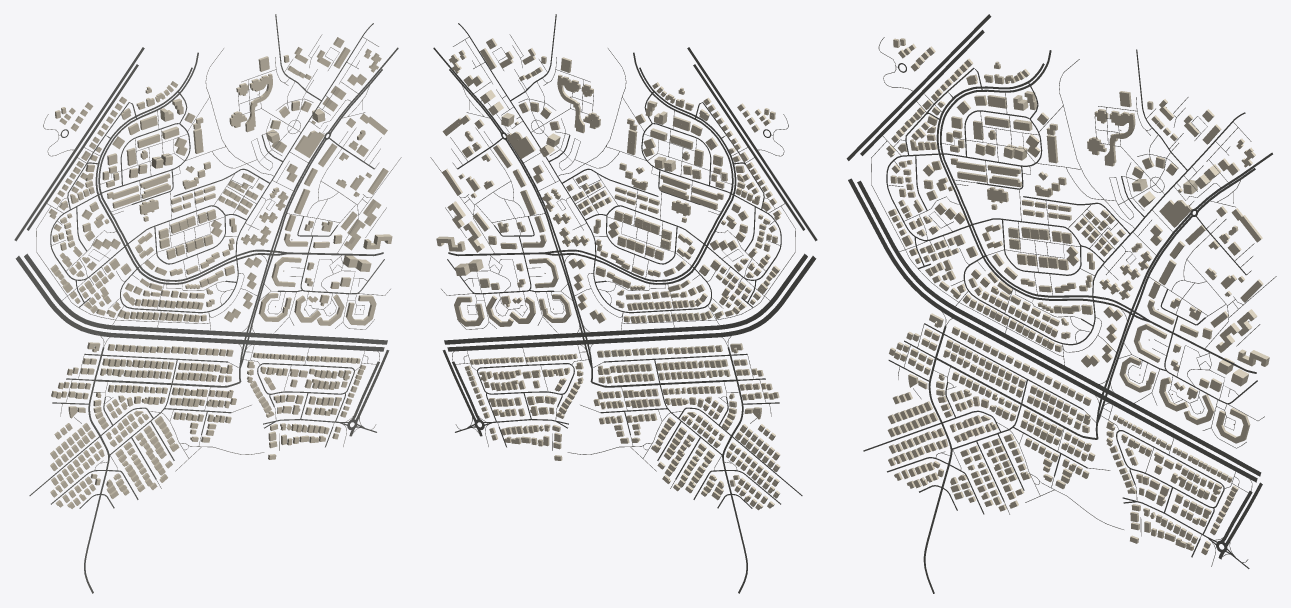
The model's file is historic-palestine-06_18_3476_3125.glb.
3 views of the same model, side by side, from view 1: azimuth 30°, elevation 25°; view 2: azimuth 150°, elevation 25°; view 3: azimuth 330°, elevation 25° (orthographic). The views are drawn at different scales.
Parts seen in each view (by area): view 1: Road שדרות דוד טוביהו.009, Road שדרות דוד טוביהו.008, Road גולדה מאיר, Road שדרות גולדה מאיר, Road אצ"ל.001, Road שדרות דוד טוביהו, Building_.284, Road אצ"ל, Road שדרות דוד טוביהו.004, Road הגאונים.001; view 2: Road שדרות דוד טוביהו.009, Road שדרות דוד טוביהו.008, Road גולדה מאיר, Road שדרות גולדה מאיר, Road אצ"ל.001, Road שדרות דוד טוביהו, Building_.284, Road אצ"ל, Road שדרות דוד טוביהו.004, Road הגאונים.001; view 3: Road שדרות דוד טוביהו.009, Road שדרות דוד טוביהו.008, Road גולדה מאיר, Road שדרות גולדה מאיר, Road אצ"ל.001, Road שדרות דוד טוביהו, Building_.284, Road שדרות דוד טוביהו.004, Road אצ"ל, Road הגאונים.001, Building_.001.
Part boxes in pixels (x1,y1,x2,y2): Road שדרות דוד טוביהו.009: (15, 256, 234, 343); Road שדרות דוד טוביהו.008: (24, 253, 233, 336); Road גולדה מאיר: (98, 52, 235, 281); Road שדרות גולדה מאיר: (95, 67, 236, 284); Road אצ"ל.001: (14, 47, 144, 241); Road שדרות דוד טוביהו: (258, 333, 387, 344); Building_.284: (245, 73, 272, 132); Road אצ"ל: (27, 64, 138, 230); Road שדרות דוד טוביהו.004: (255, 340, 371, 350); Road הגאונים.001: (84, 380, 109, 593); Road שדרות דוד טוביהו.009: (597, 256, 816, 343); Road שדרות דוד טוביהו.008: (598, 253, 807, 336); Road גולדה מאיר: (596, 52, 733, 281); Road שדרות גולדה מאיר: (595, 67, 736, 284); Road אצ"ל.001: (687, 47, 817, 241); Road שדרות דוד טוביהו: (444, 333, 573, 344); Building_.284: (557, 74, 584, 133); Road אצ"ל: (693, 64, 804, 230); Road שדרות דוד טוביהו.004: (460, 340, 576, 350); Road הגאונים.001: (722, 380, 747, 593); Road שדרות דוד טוביהו.009: (848, 178, 1090, 392); Road שדרות דוד טוביהו.008: (857, 180, 1090, 383); Road גולדה מאיר: (940, 50, 1092, 297); Road שדרות גולדה מאיר: (936, 63, 1093, 301); Road אצ"ל.001: (846, 14, 991, 160); Road שדרות דוד טוביהו: (1117, 395, 1261, 476); Building_.284: (1104, 110, 1135, 166); Road שדרות דוד טוביהו.004: (1114, 401, 1243, 474); Road אצ"ל: (860, 30, 984, 155); Road הגאונים.001: (923, 358, 952, 593); Building_.001: (1216, 408, 1250, 443).
Size of the model in its own units: 1131 by 1493 by 29.1.
